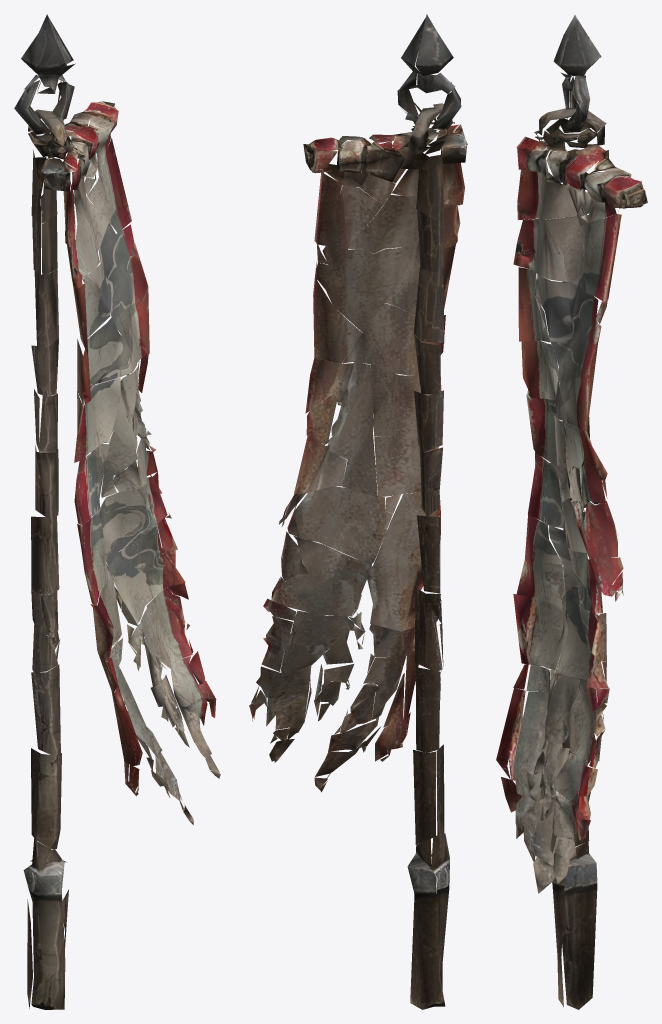
The model's file is soul_banner.glb.
3 views of the same model, side by side, from view 1: azimuth 30°, elevation 25°; view 2: azimuth 150°, elevation 25°; view 3: azimuth 270°, elevation 25° (orthographic).
Parts seen in each view (by area): view 1: tripo_node_6744ea13-0e48-4cfd-a50e-35c3e7edb123; view 2: tripo_node_6744ea13-0e48-4cfd-a50e-35c3e7edb123; view 3: tripo_node_6744ea13-0e48-4cfd-a50e-35c3e7edb123.
Part boxes in pixels (x1,y1,x2,y2): tripo_node_6744ea13-0e48-4cfd-a50e-35c3e7edb123: [14, 14, 220, 1009]; tripo_node_6744ea13-0e48-4cfd-a50e-35c3e7edb123: [249, 14, 467, 1009]; tripo_node_6744ea13-0e48-4cfd-a50e-35c3e7edb123: [496, 15, 647, 1009].
Bounding box in the file's own units: 0.2134 × 0.9806 × 0.1364.
Materials: 1 (1 with a texture image).
